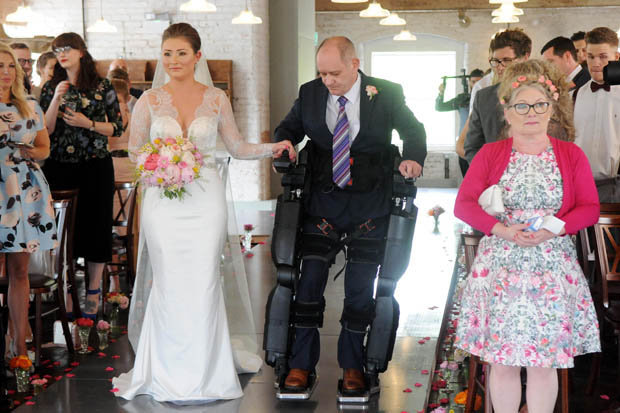feet: (275, 343, 370, 395), (57, 281, 112, 321)
